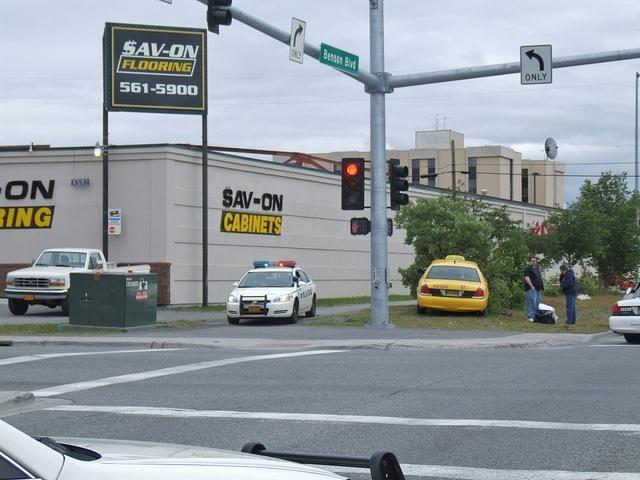car: (0, 416, 406, 480), (226, 260, 320, 325), (417, 255, 489, 316), (609, 287, 640, 344)
truck: (9, 248, 152, 318)
